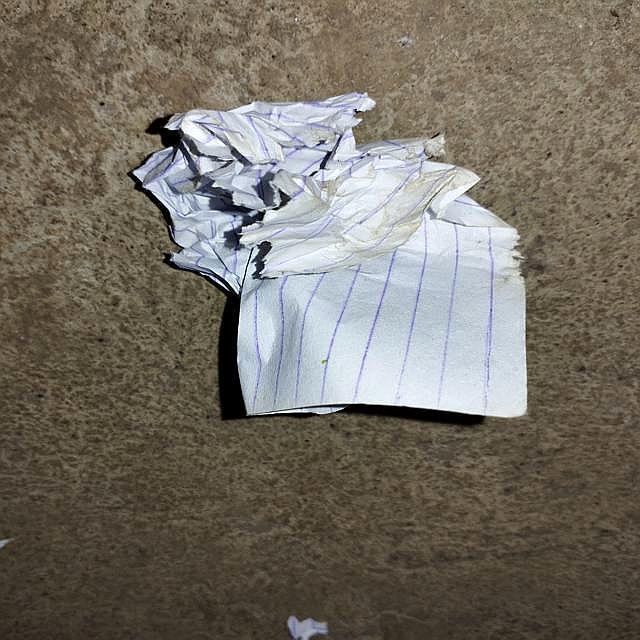Biodegradable: (137, 99, 531, 421)
